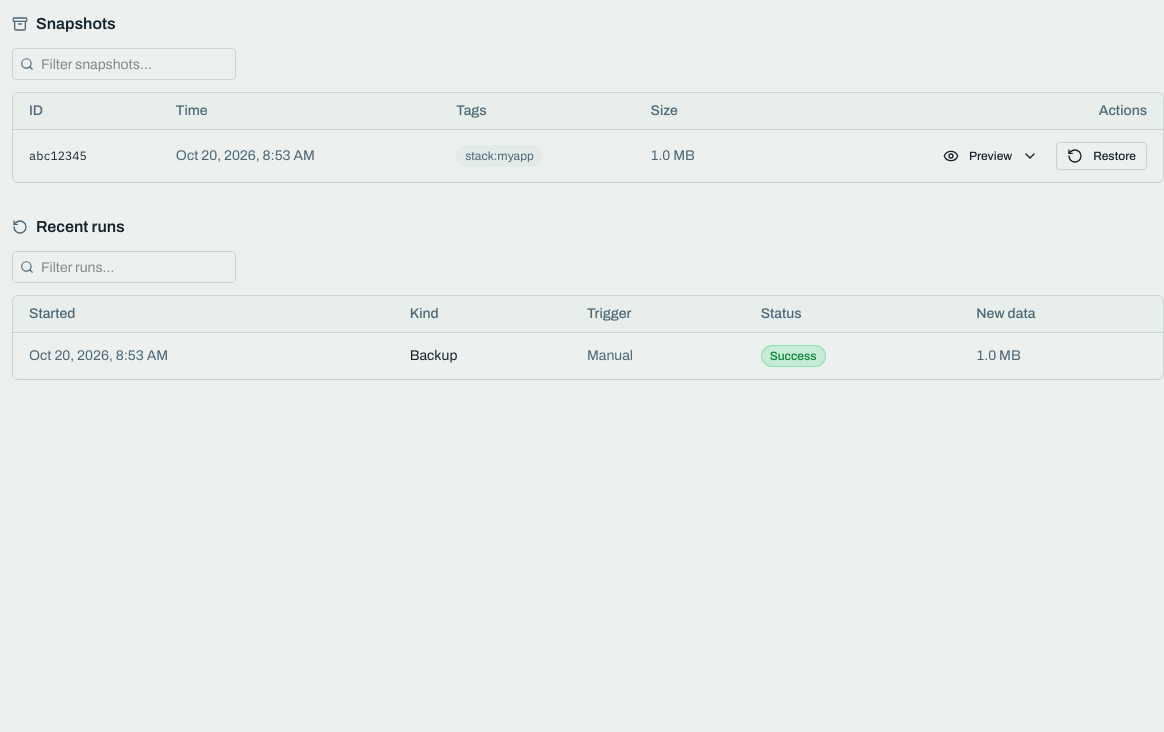
it: BackupsTab — preview panel names the repository fault › names a repository that does not exist yet
Click the button with aria-label "show preview". click: (991,156)
box: x1=933 y1=142 x2=1048 y2=170
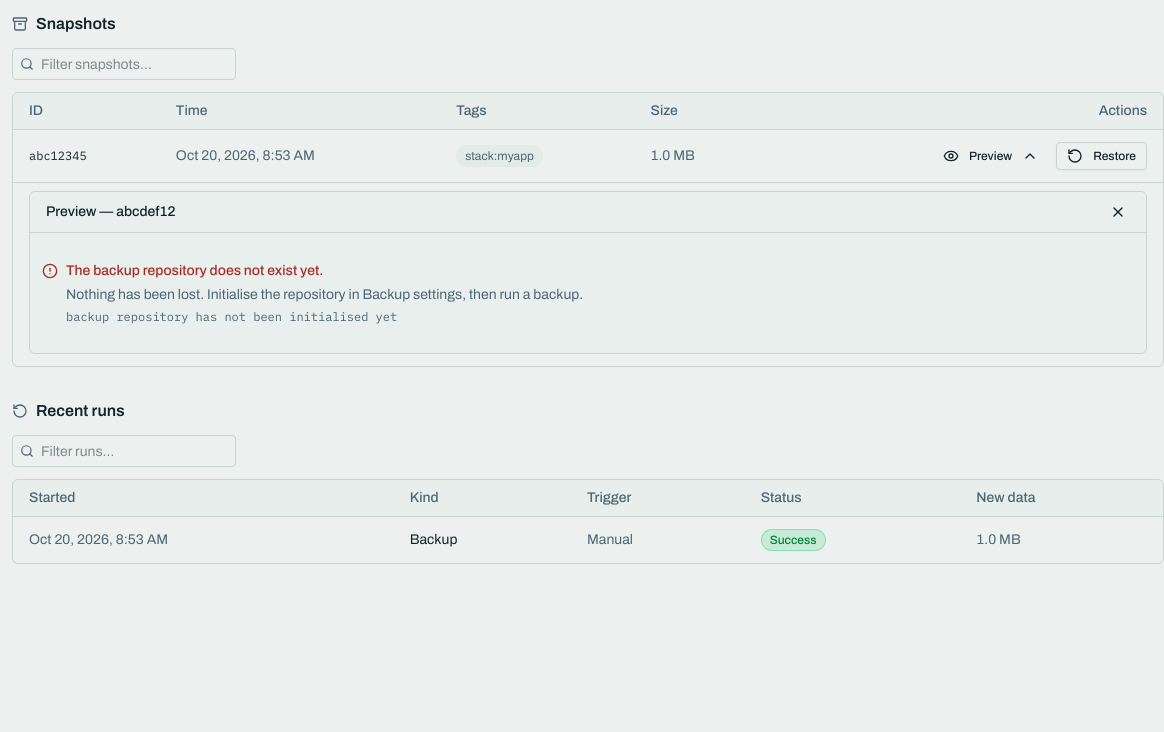
Result: the text "The backup repository does not exist yet." is shown at x1=66 y1=263 x2=323 y2=278
